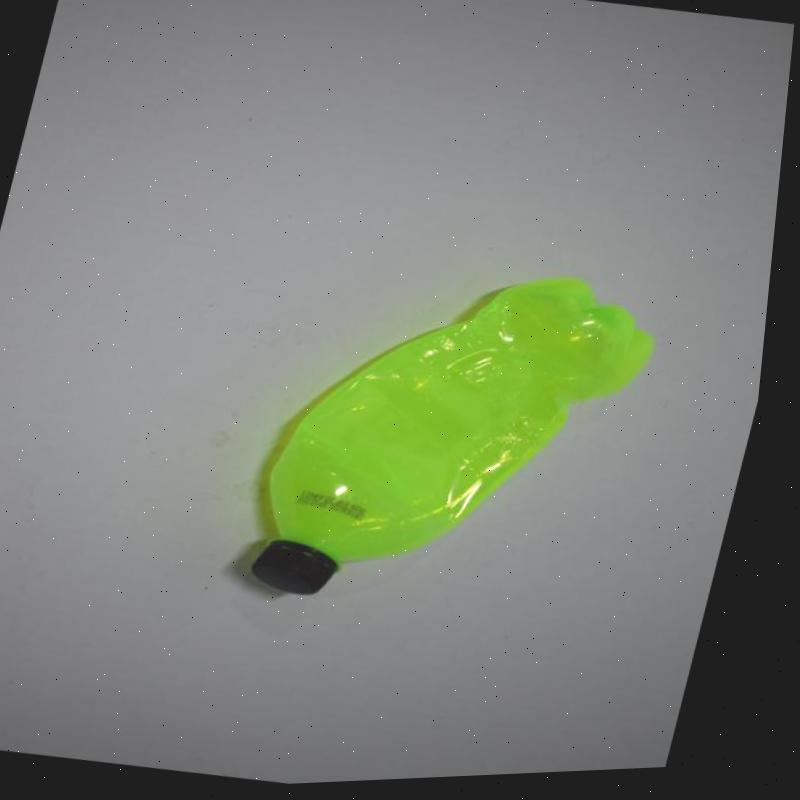botella: (249, 239, 684, 645)
